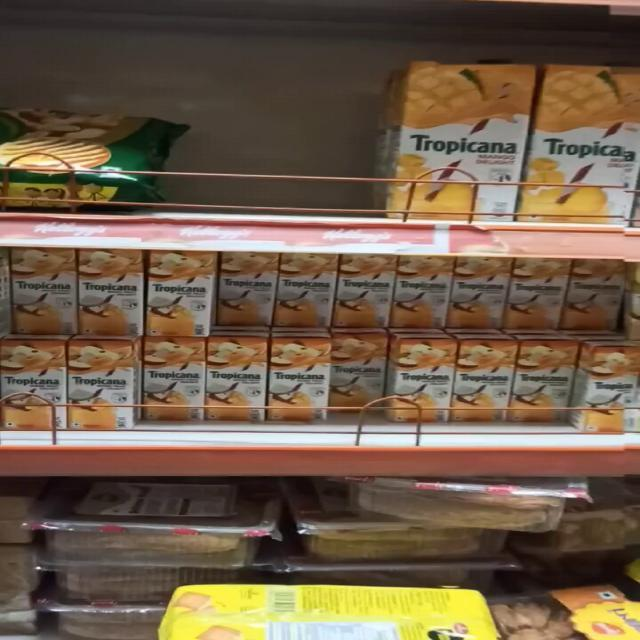Tropicana: (382, 55, 542, 229), (4, 247, 86, 345), (134, 336, 212, 430), (80, 241, 148, 341), (268, 252, 342, 342), (1, 343, 70, 439), (144, 253, 214, 342), (263, 339, 334, 426), (212, 338, 272, 435), (327, 334, 388, 422), (508, 340, 569, 427), (336, 251, 396, 339), (215, 253, 277, 337), (73, 350, 135, 431), (450, 341, 512, 422), (565, 263, 631, 336), (391, 344, 453, 421), (508, 260, 568, 338), (574, 351, 638, 424), (454, 252, 511, 333), (395, 259, 453, 331)
